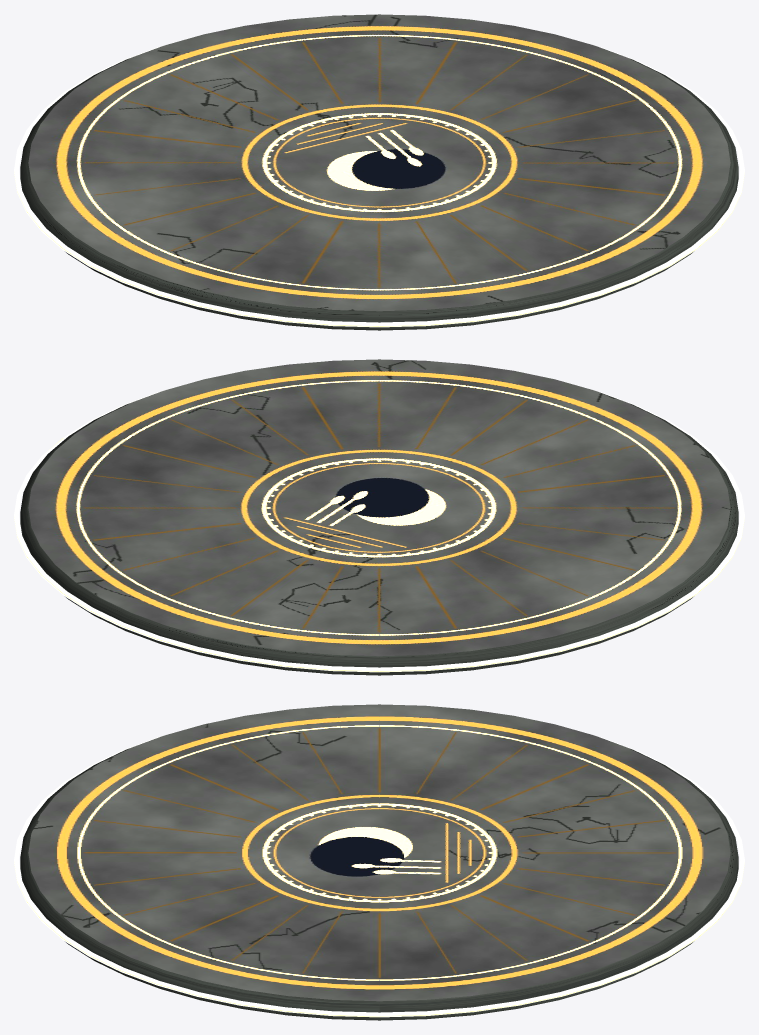
Rendered from dais_g.glb.
3 renders of one model, top to bottom at view 1: azimuth 30°, elevation 25°; view 2: azimuth 150°, elevation 25°; view 3: azimuth 270°, elevation 25°, orthographic.
Parts seen in each view (by area): view 1: dais; view 2: dais; view 3: dais.
Boxes of the visible parts, x1,y1,x2,y2 form: dais: (14, 14, 744, 330); dais: (14, 359, 744, 675); dais: (14, 704, 744, 1020).
Size of the model in its own units: 9.16 by 0.22 by 9.16.
Materials: 3 (2 with a texture image).
